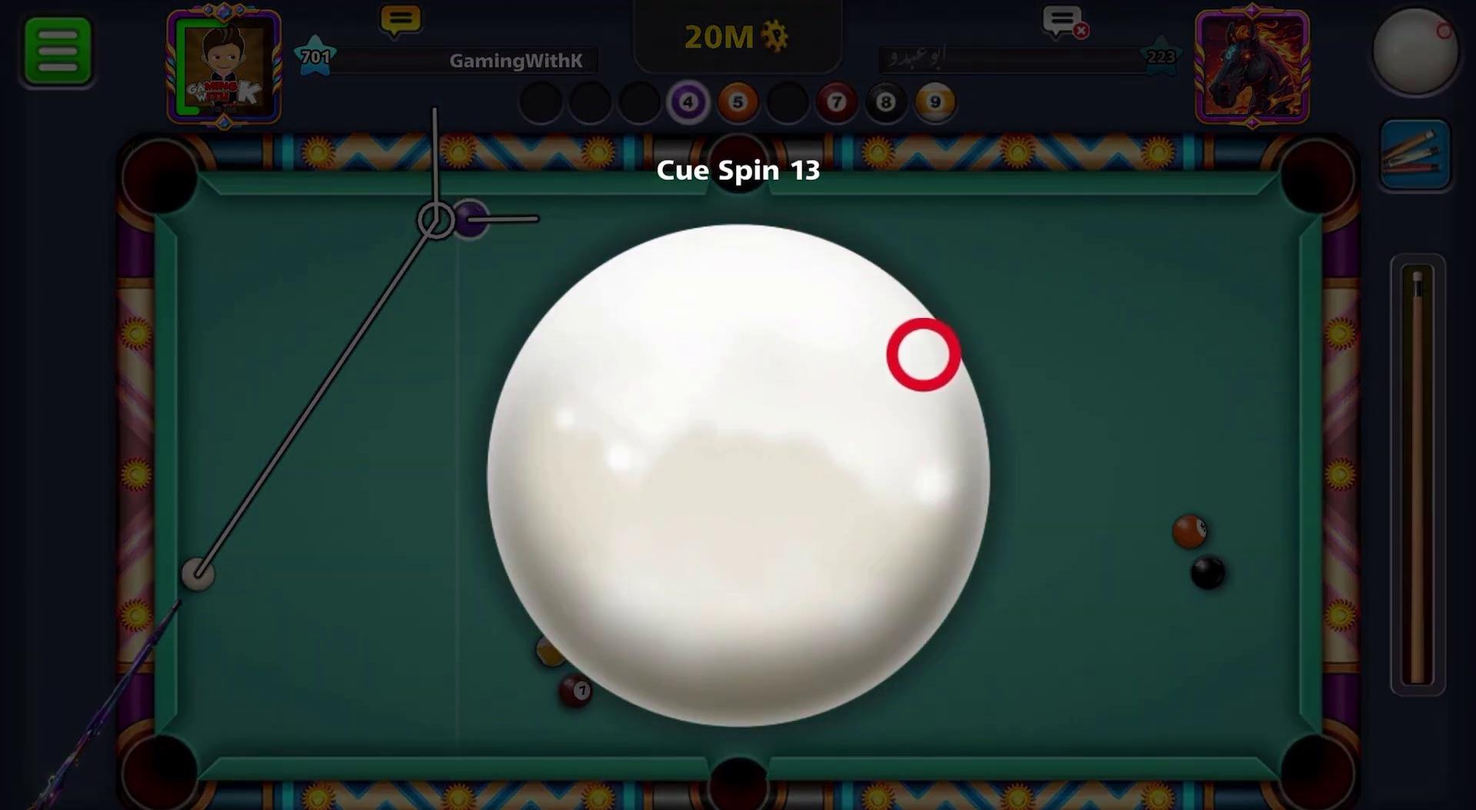Ball: (526, 624, 581, 676), (1173, 497, 1215, 551), (446, 197, 493, 240), (554, 673, 597, 718), (1191, 552, 1230, 591)
Force: (1388, 251, 1458, 700)
Guideline: (191, 102, 545, 585)
Hole: (105, 128, 225, 234), (109, 708, 216, 810), (1269, 131, 1367, 233), (1267, 711, 1358, 810), (689, 124, 790, 210), (681, 742, 787, 810)
Play_Area: (177, 193, 1298, 758)
Spin: (481, 221, 1001, 736), (1349, 0, 1476, 120)
White: (178, 556, 226, 596)
